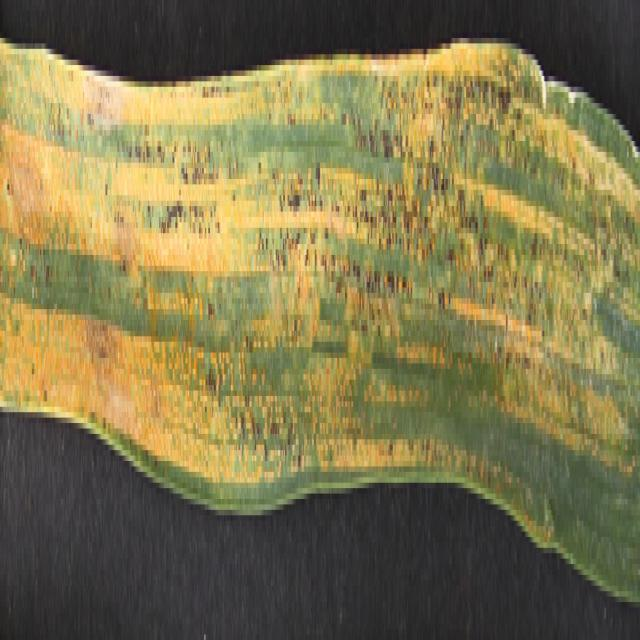leaf rust: (1, 6, 638, 504)
